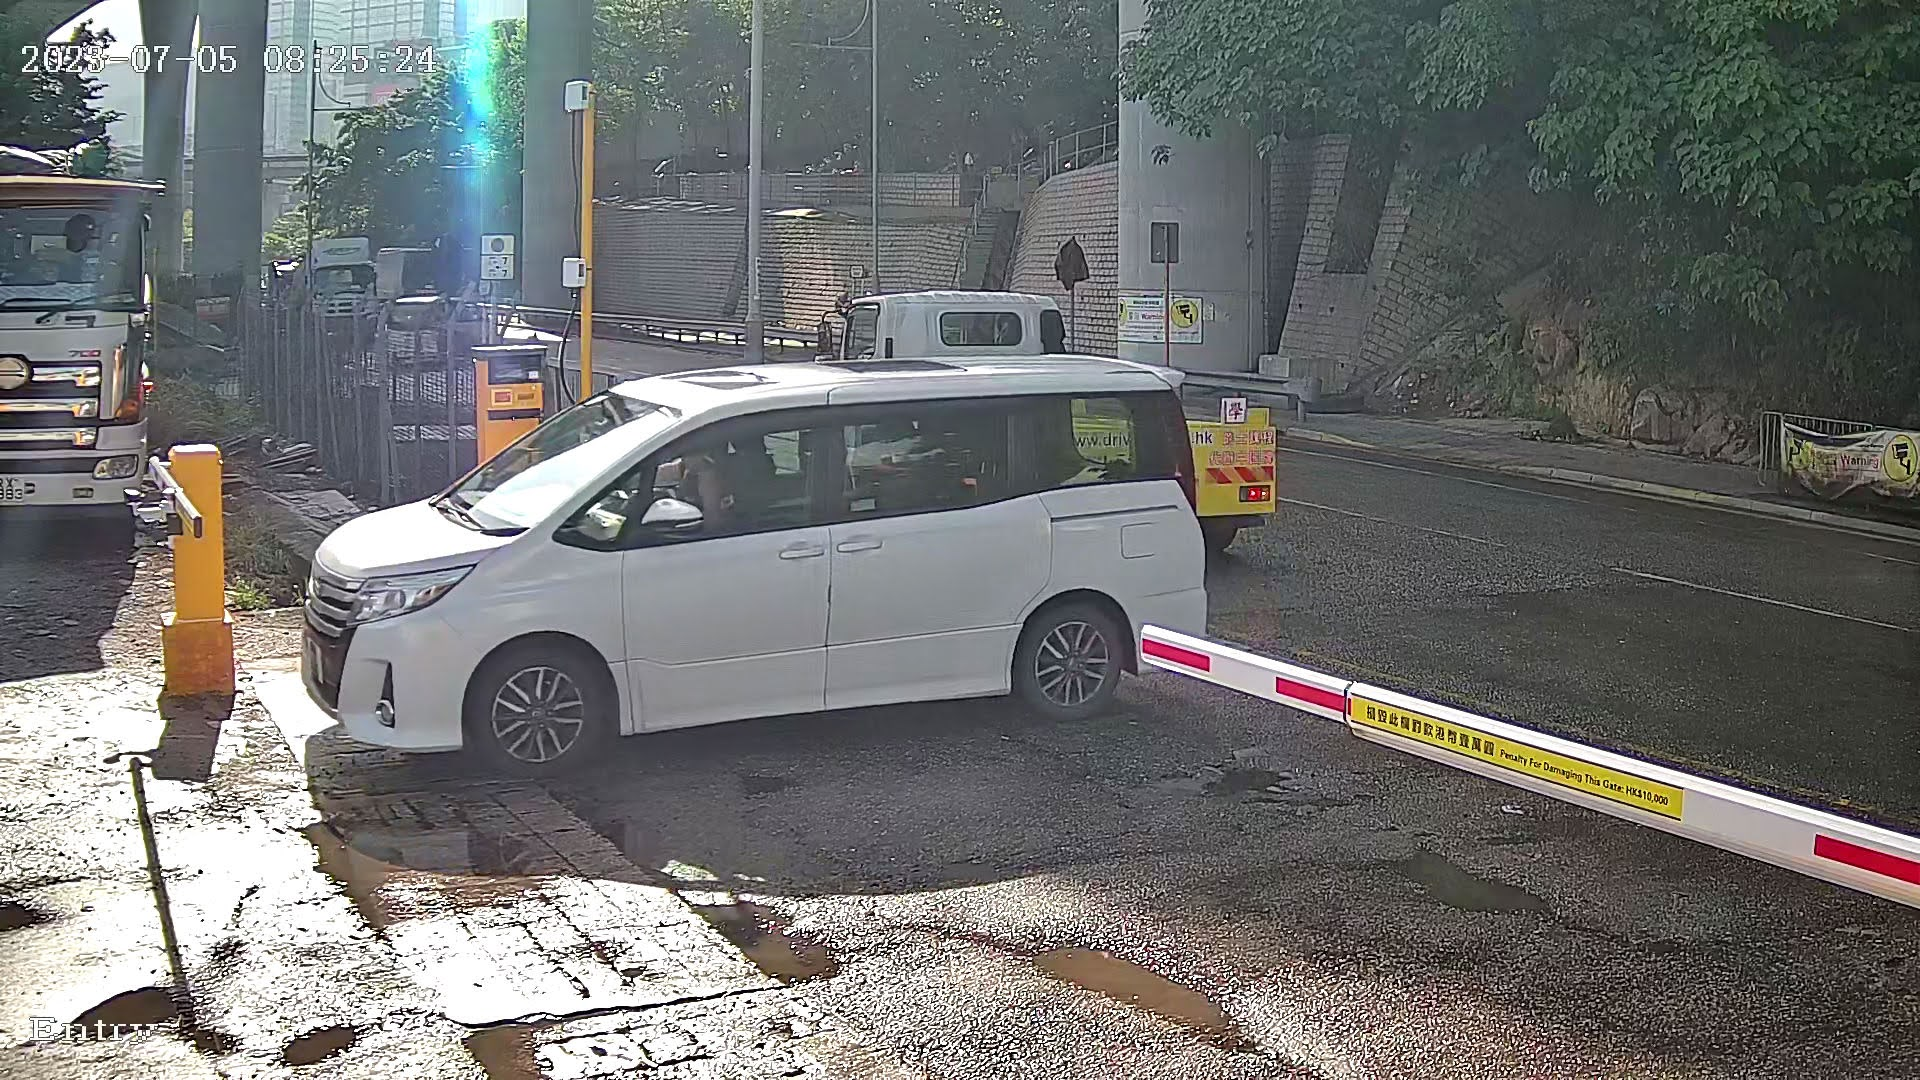privatecar: (277, 313, 1263, 823)
